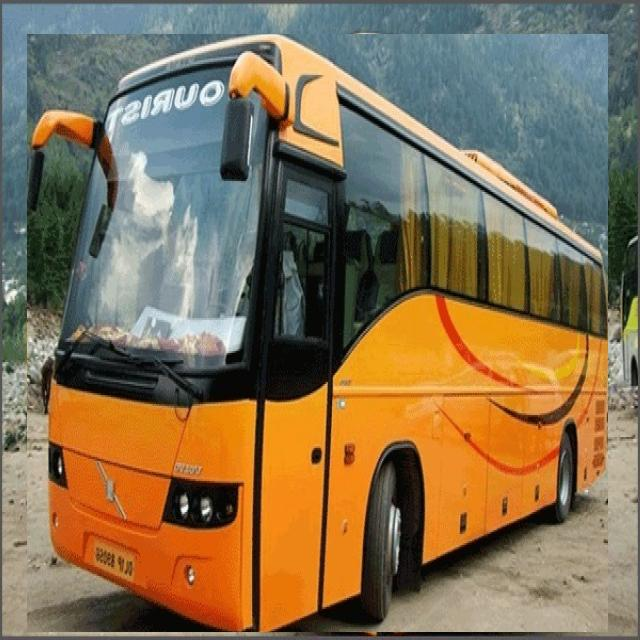bus: (28, 34, 608, 632)
